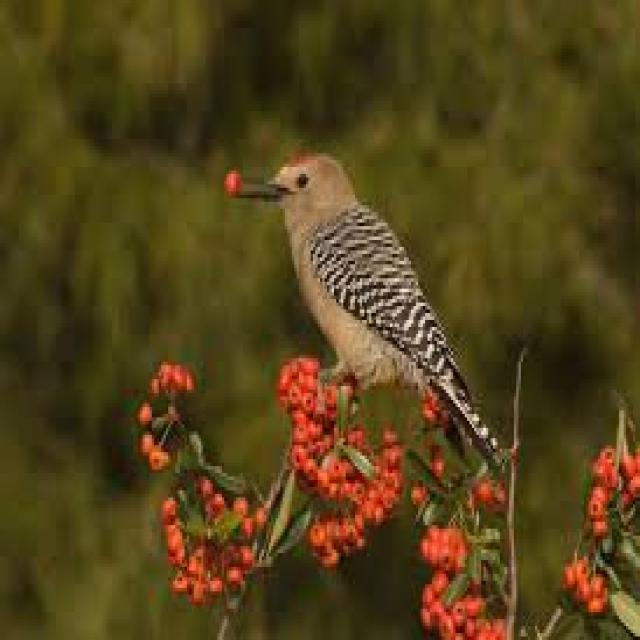Woodpecker: (219, 130, 516, 459)
